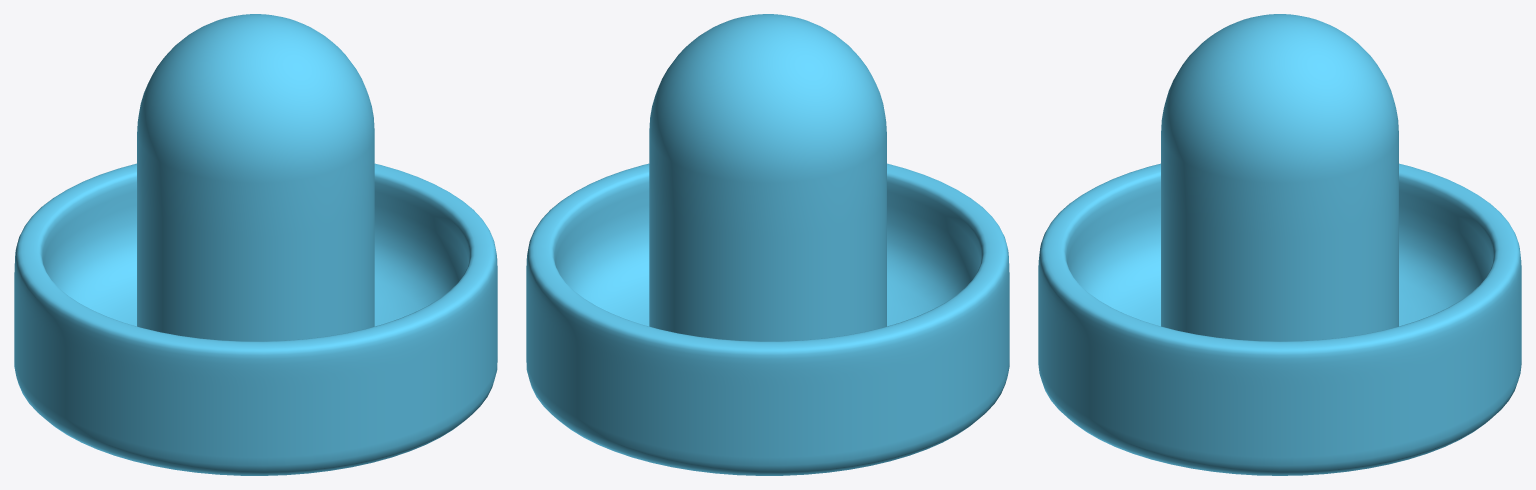
The model's file is hockeystriker.fbx.
The picture shows the model from 3 angles, left to right: view 1: azimuth 30°, elevation 25°; view 2: azimuth 150°, elevation 25°; view 3: azimuth 270°, elevation 25°; orthographic projection.
Parts seen in each view (by area): view 1: Striker; view 2: Striker; view 3: Striker.
Boxes of the visible parts, left/top/right/bottom form: Striker: left=14, top=14, right=497, bottom=475; Striker: left=526, top=14, right=1009, bottom=475; Striker: left=1038, top=14, right=1521, bottom=475.
Bounding box in the file's own units: 77.47 × 64.85 × 77.47.
